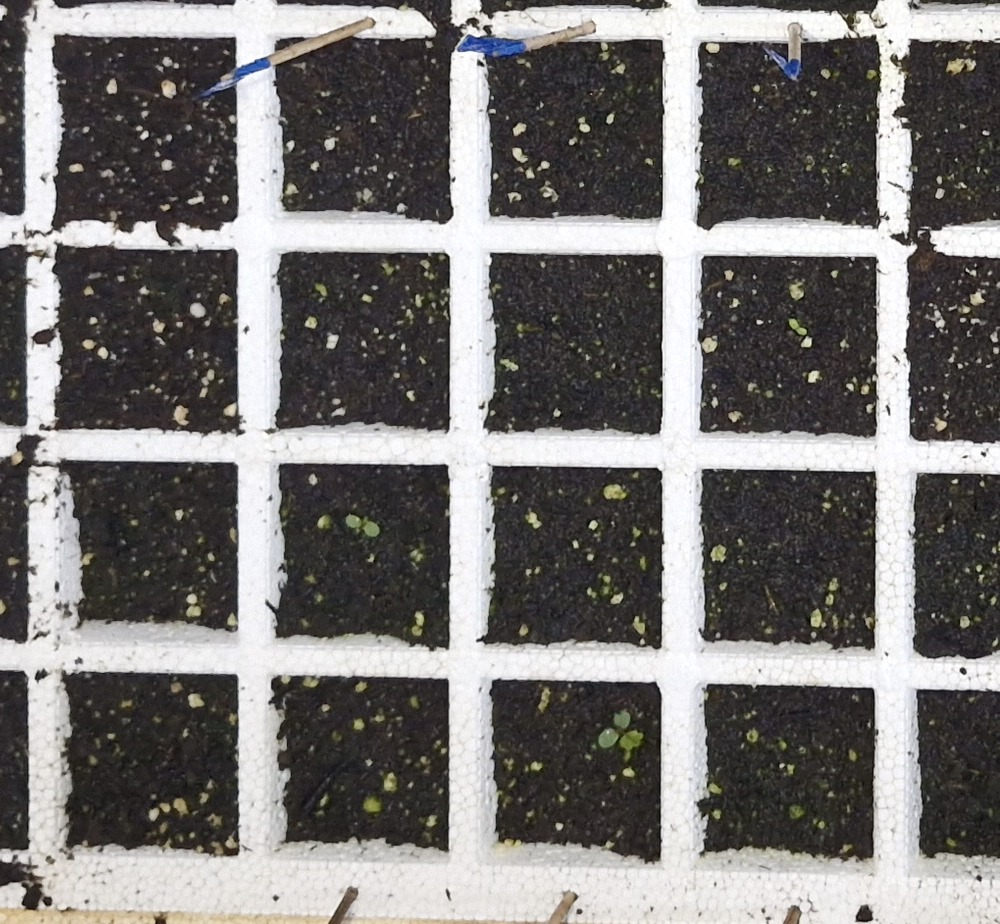Folha: (620, 731, 644, 750), (614, 708, 631, 729), (600, 728, 618, 746), (363, 522, 381, 537), (345, 514, 361, 528), (789, 319, 799, 329)
Germinacao: (600, 709, 644, 750), (346, 515, 380, 536), (789, 319, 808, 335)
